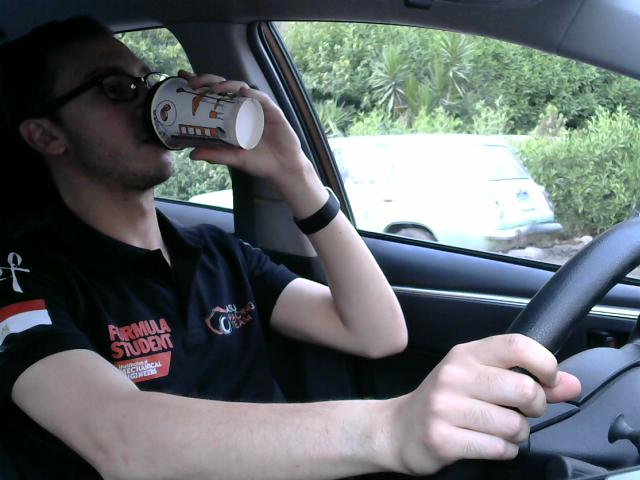Drinking: (140, 71, 266, 153)
